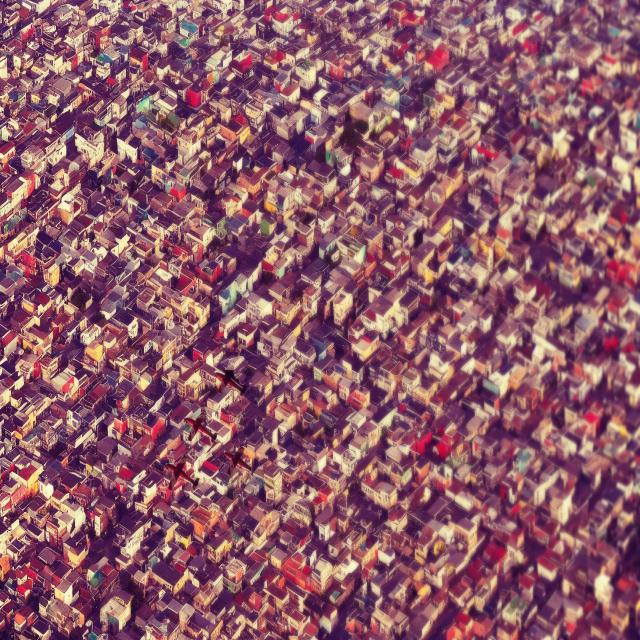airplane: (166, 459, 200, 492), (185, 415, 218, 446), (214, 368, 245, 398), (222, 446, 252, 476)
